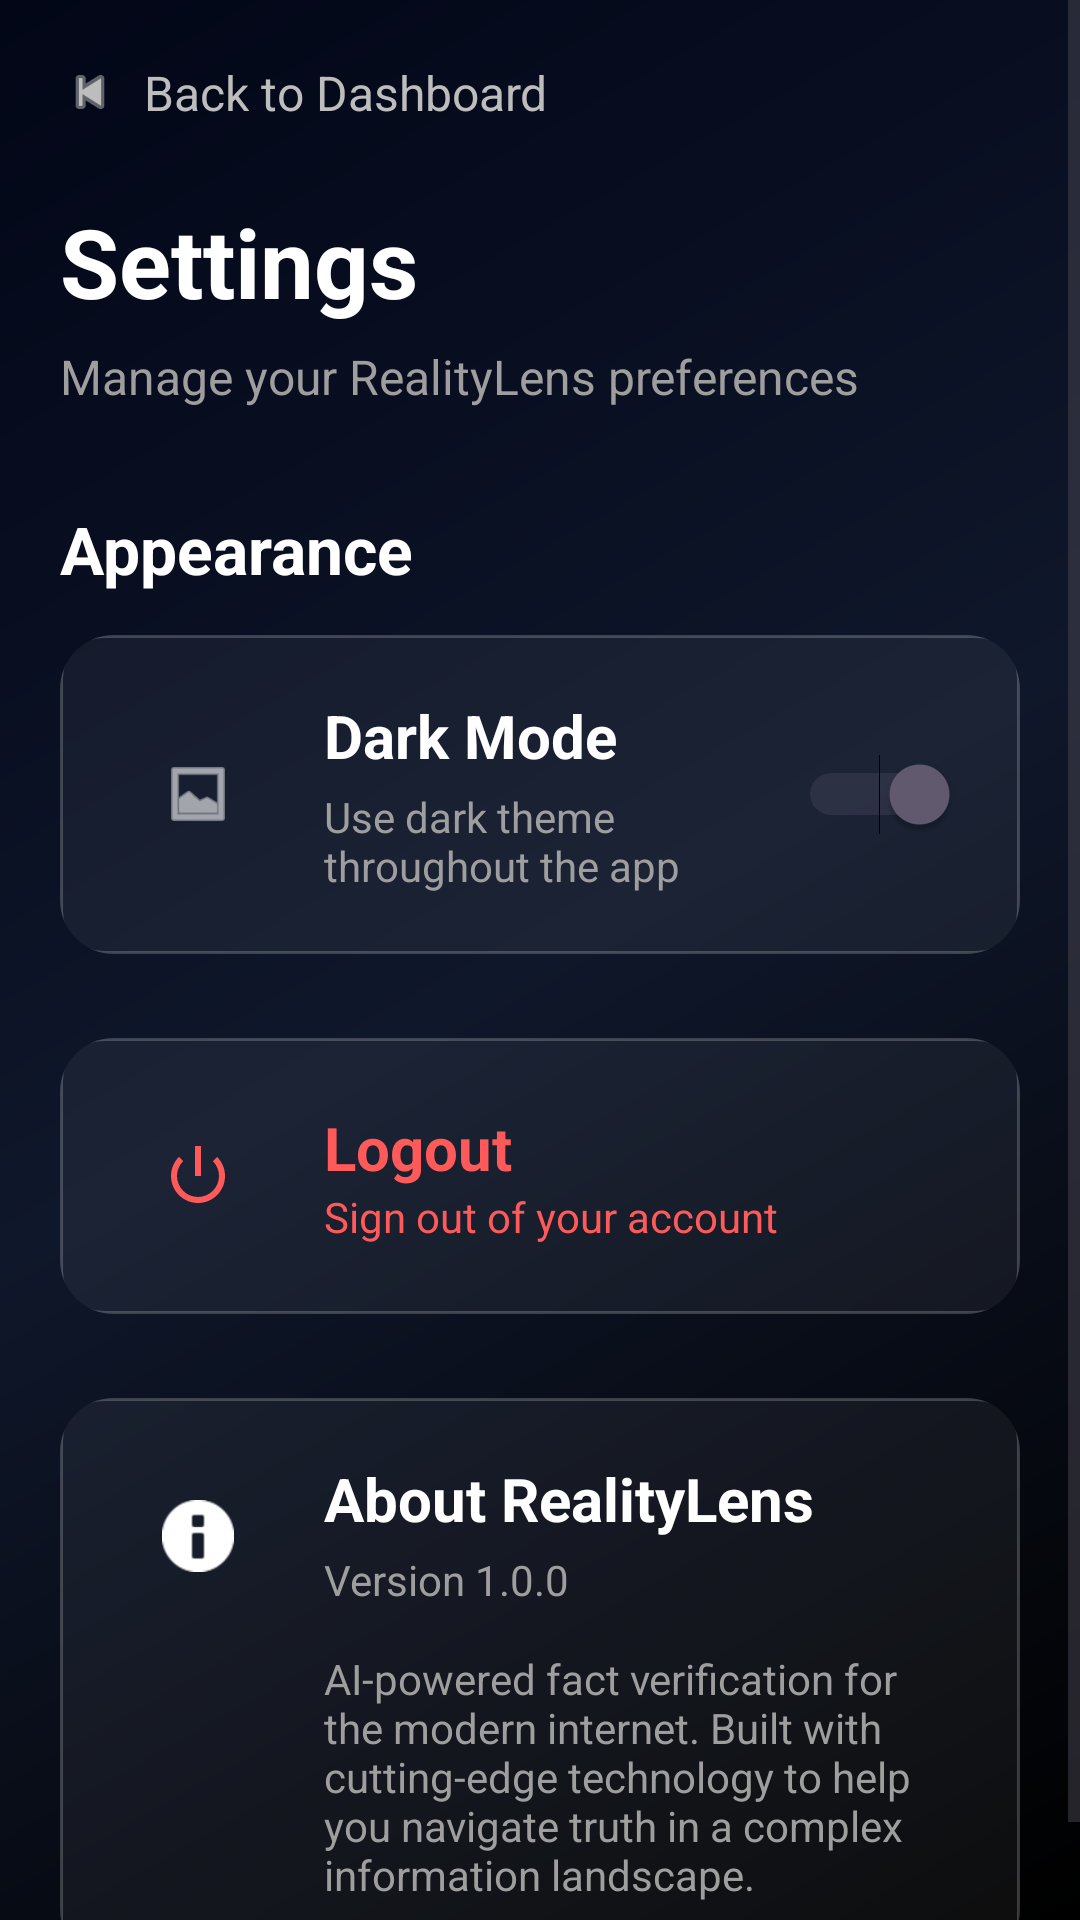

Where to tap for icons on this 1080 x 1920 app screen, as point (x, y):
gallery: point (198, 794)
lock power off: point (198, 1174)
previous: point (90, 92)
